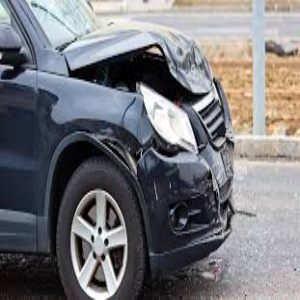bumper: (84, 159, 172, 246)
